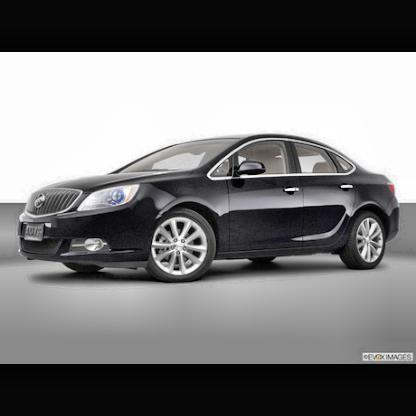Buick Verano Sedan 2012: (19, 134, 402, 285)
